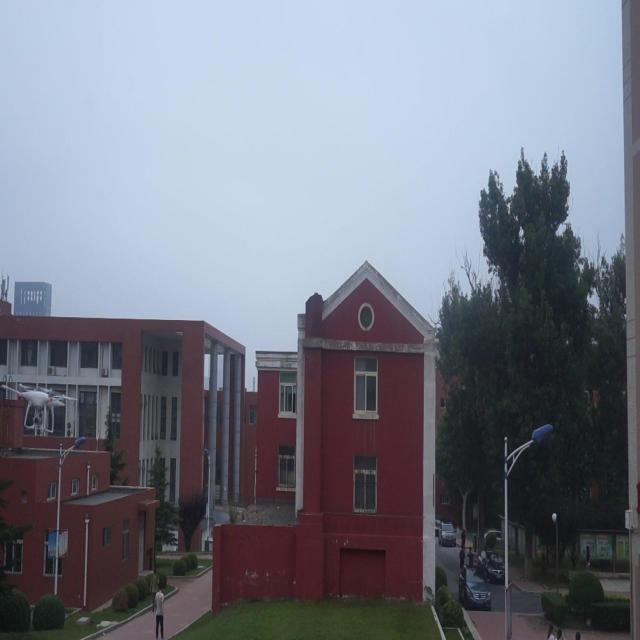drone: (1, 375, 82, 439)
